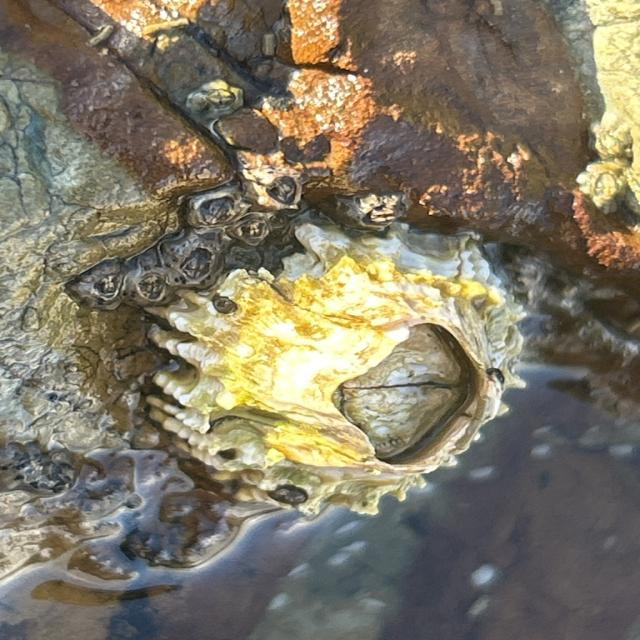barnacles: (160, 225, 530, 525)
